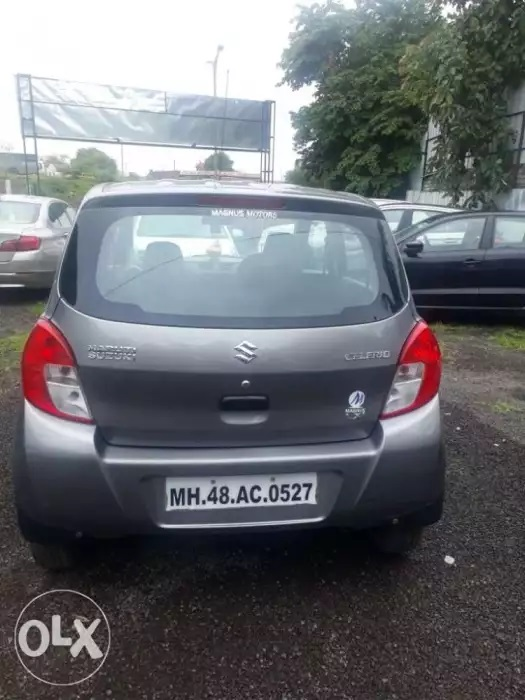licenseplate: (162, 472, 323, 516)
